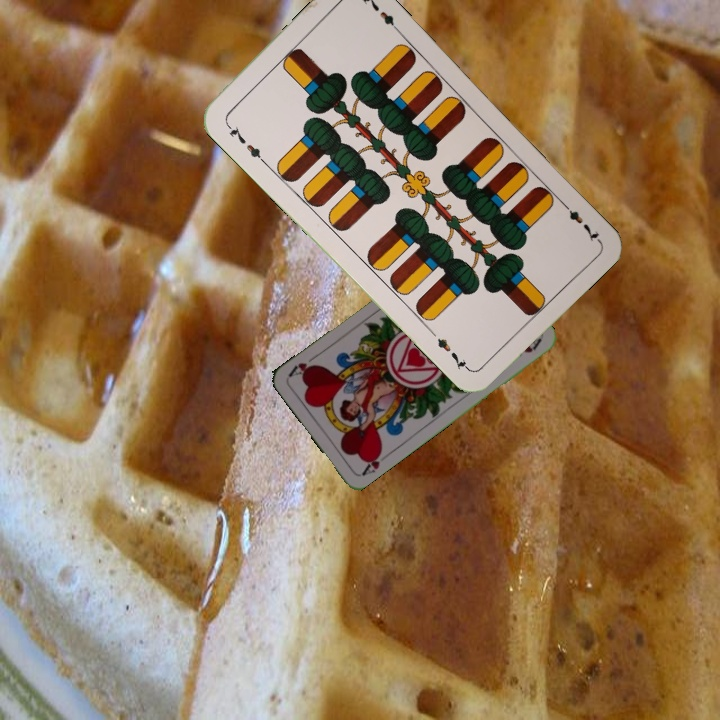E7: (556, 196, 602, 244), (222, 119, 268, 166)
HA: (357, 446, 385, 479)
